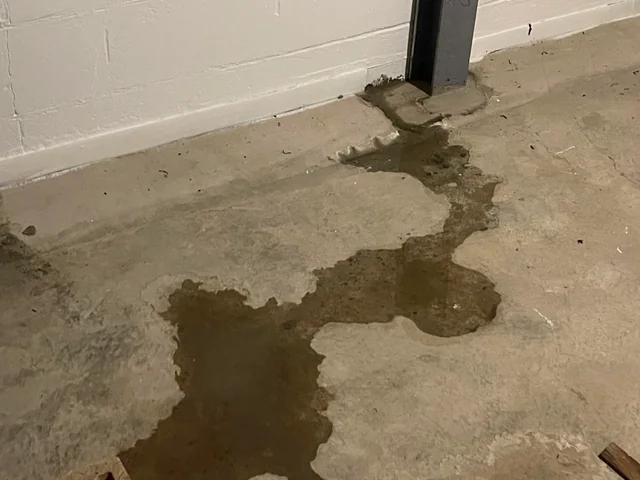water accumulation: (116, 122, 505, 479)
